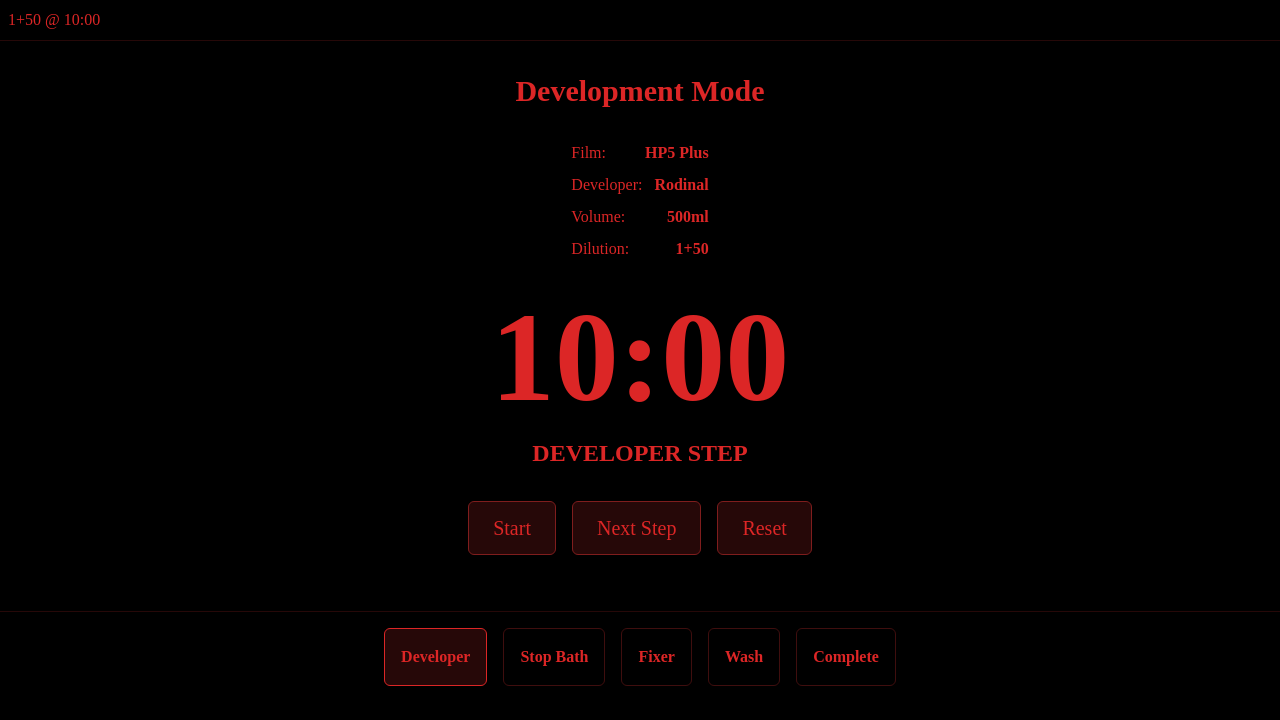
DevelopmentMode › can skip to next step manually
Expected: the text "DEVELOPER STEP" is shown, [532,440,748,466]
Click the button "Next Step": point(637, 528) [572,501,701,555]
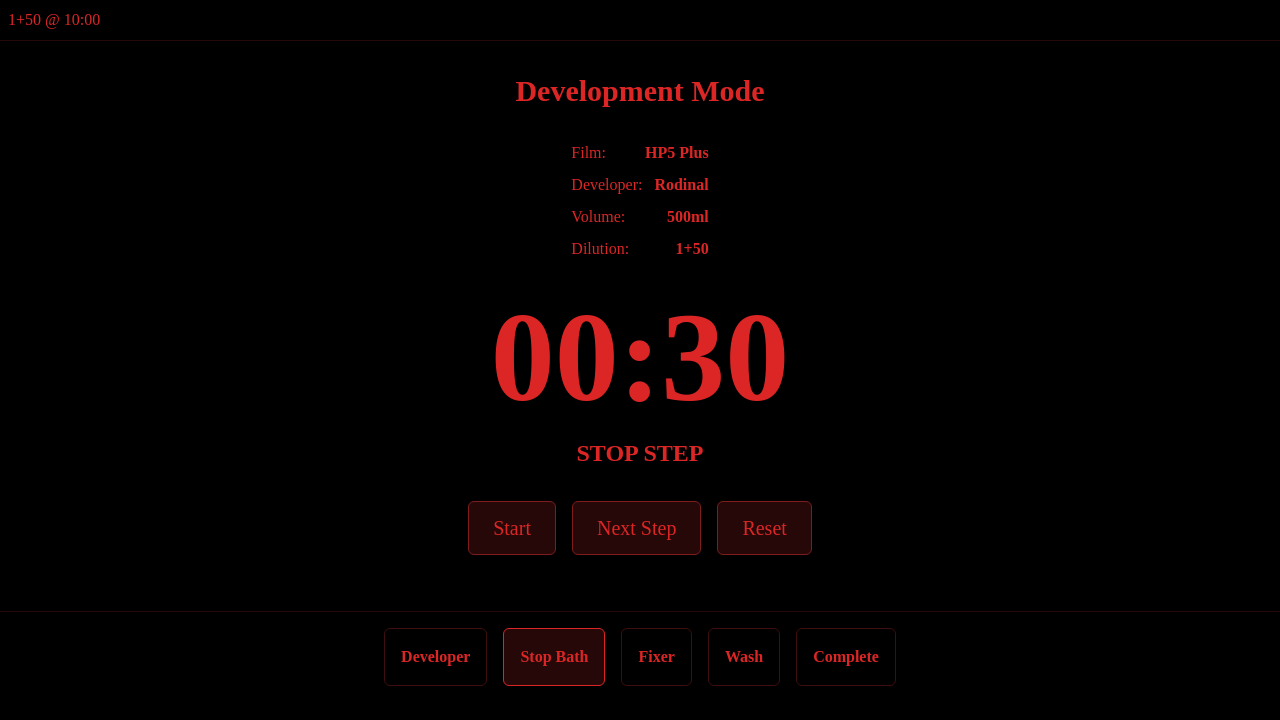
Expected: the text "STOP STEP" is shown, [576,440,704,466]
Click the button "Next Step": point(637, 528) [572,501,701,555]
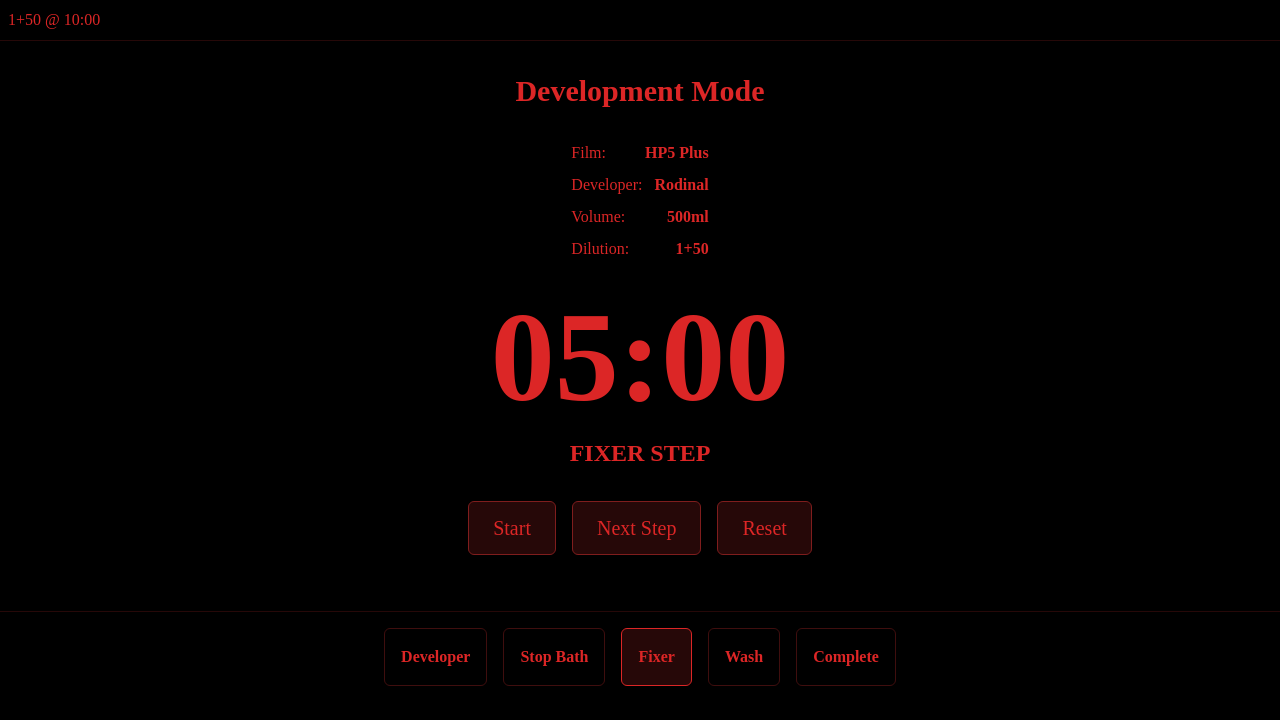
Expected: the text "FIXER STEP" is shown, [570,440,710,466]
Click the button "Next Step": point(637, 528) [572,501,701,555]
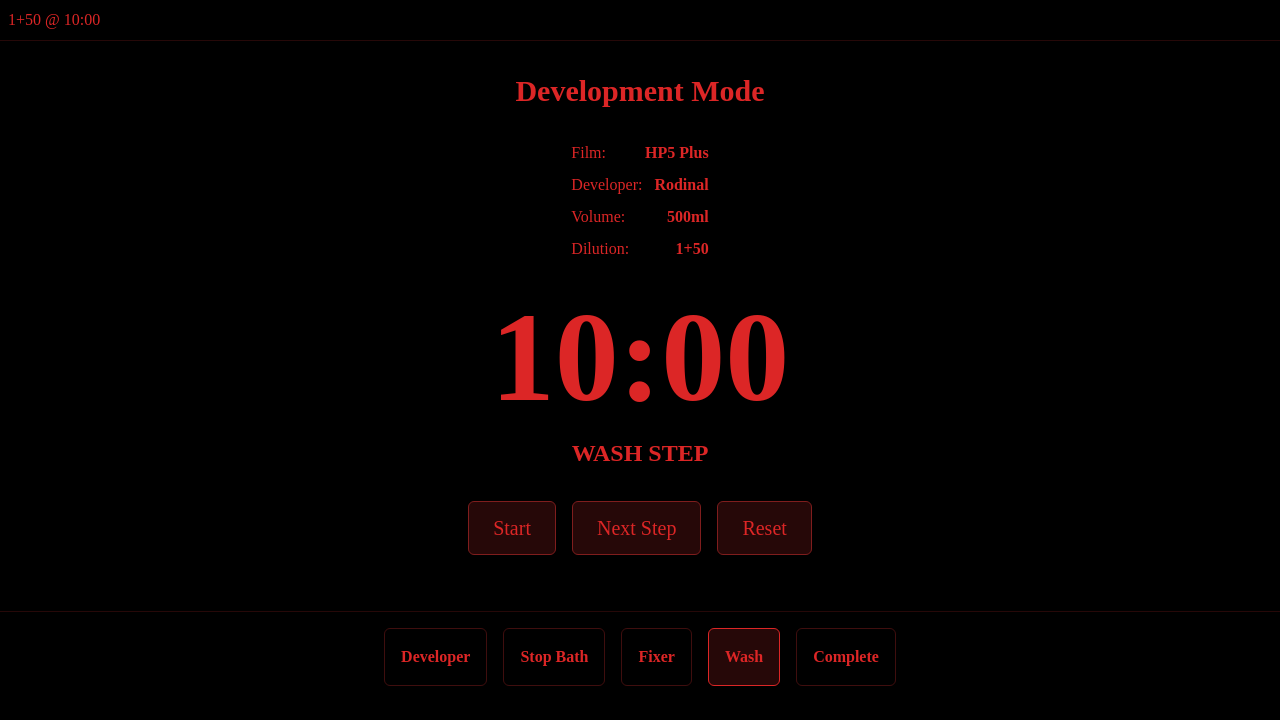
Expected: the text "WASH STEP" is shown, [572,440,708,466]
Click the button "Next Step": point(637, 528) [572,501,701,555]
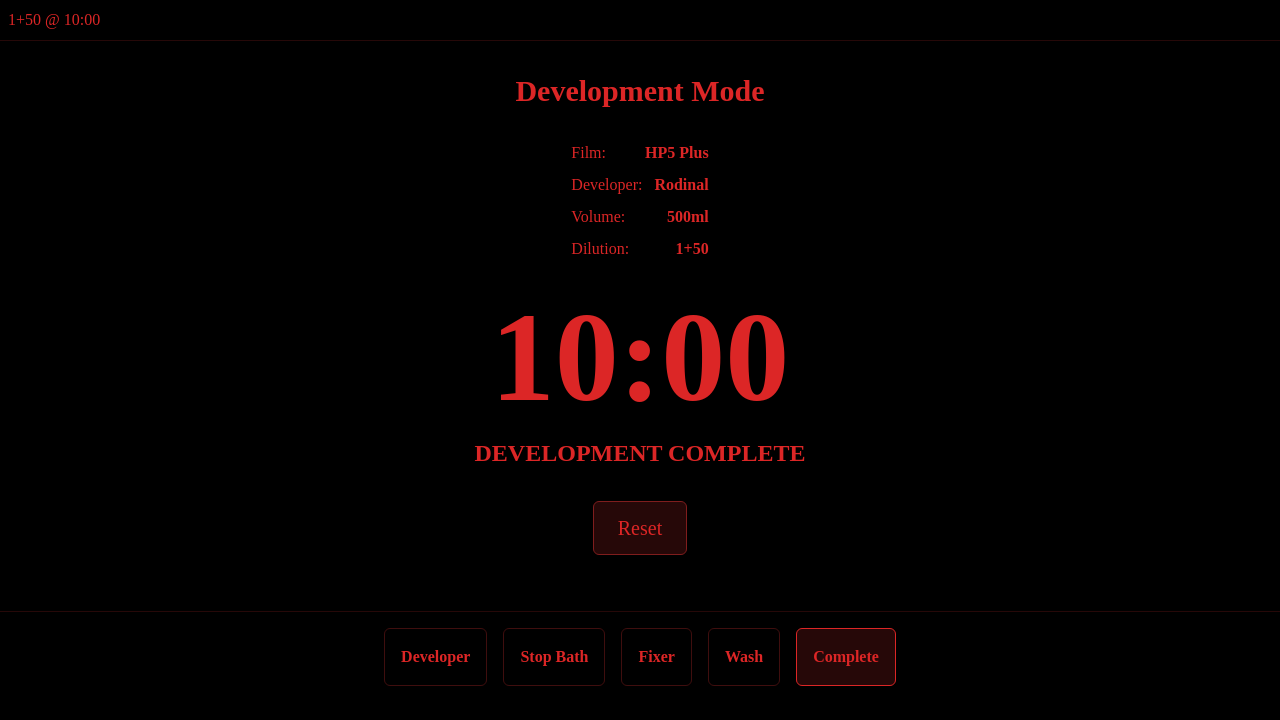
Expected: the text "DEVELOPMENT COMPLETE" is shown, [474,440,805,466]
